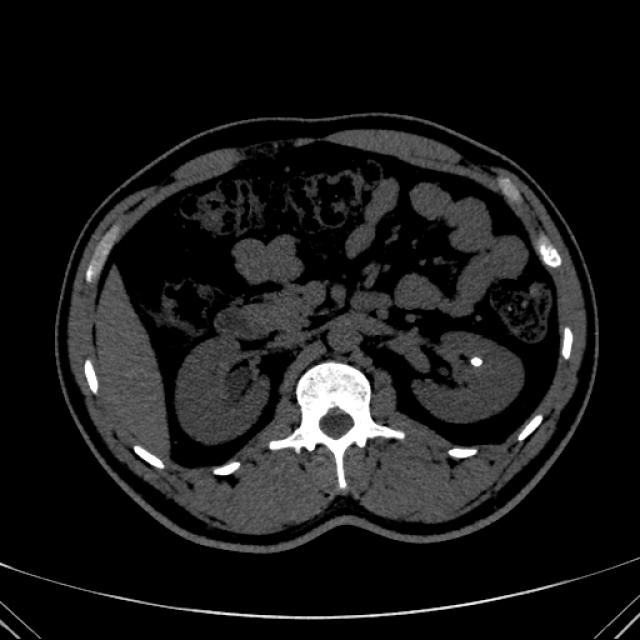kidneystone: (470, 356, 484, 367)
